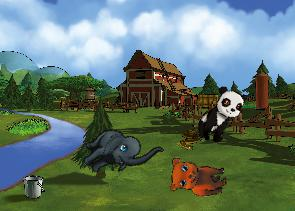bear: (167, 153, 228, 198)
elephant: (75, 108, 164, 195)
panda: (192, 82, 249, 149)
